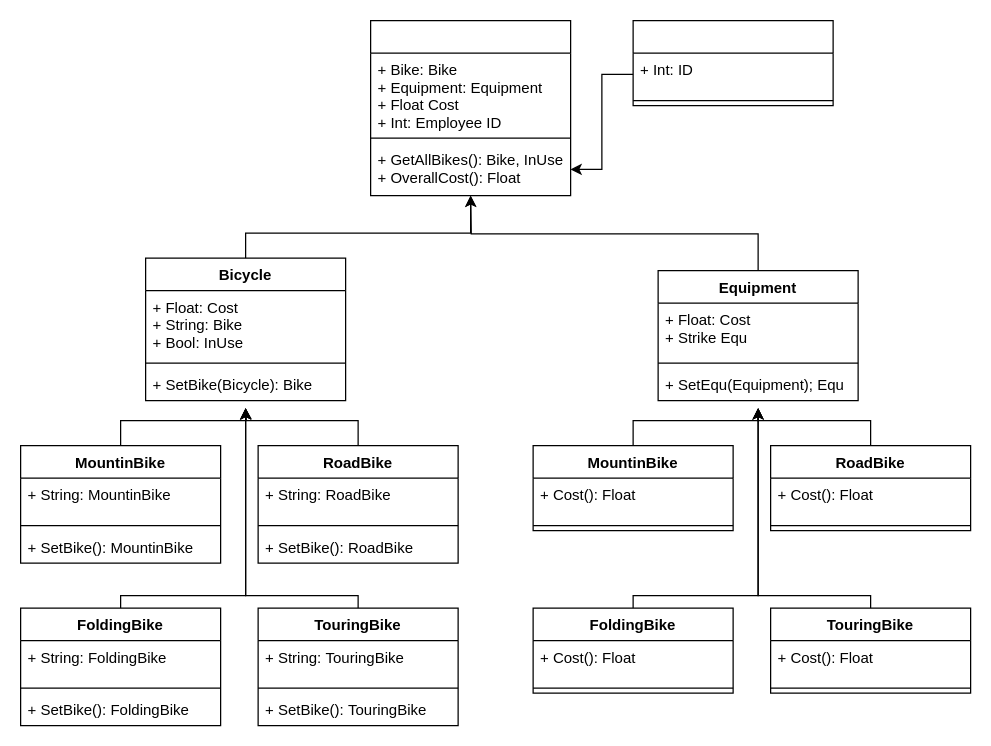
Some shapes in this 991 by 746 pixel diagram are drawn without their labels. Here are the shapes that lost their labels. From the top down, the box of each, then its label:
(632, 19, 833, 106): Emplyee
(369, 19, 571, 196): AssignedBike
